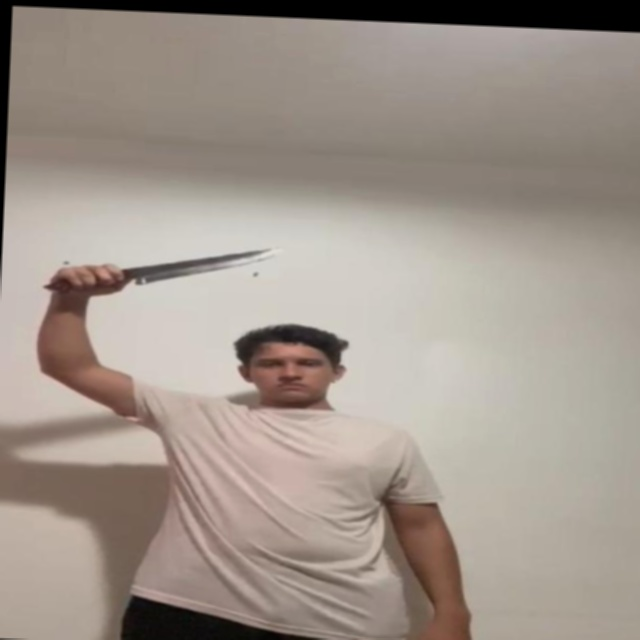Sharp-Object: (134, 243, 278, 288)
